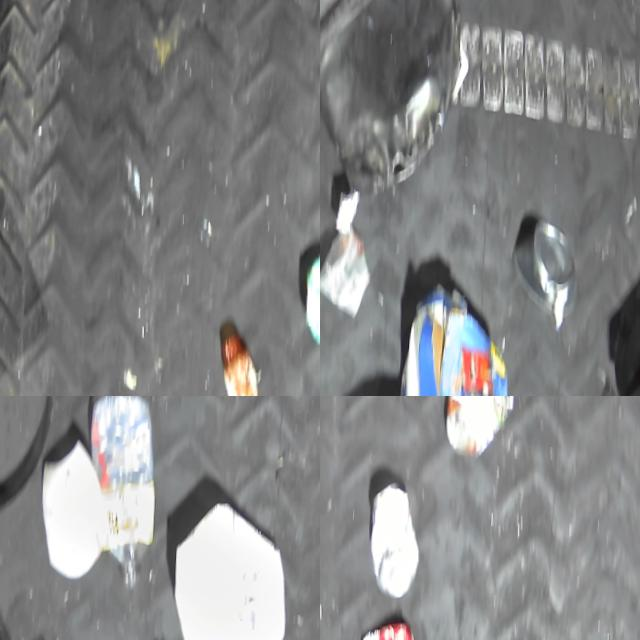can: (511, 207, 582, 310), (364, 473, 421, 594), (441, 396, 517, 458), (300, 239, 320, 346), (355, 610, 420, 640)
milk_jug: (170, 482, 291, 640)
non_white_jug: (320, 0, 469, 200)
plastic_bottle: (81, 396, 158, 594)
